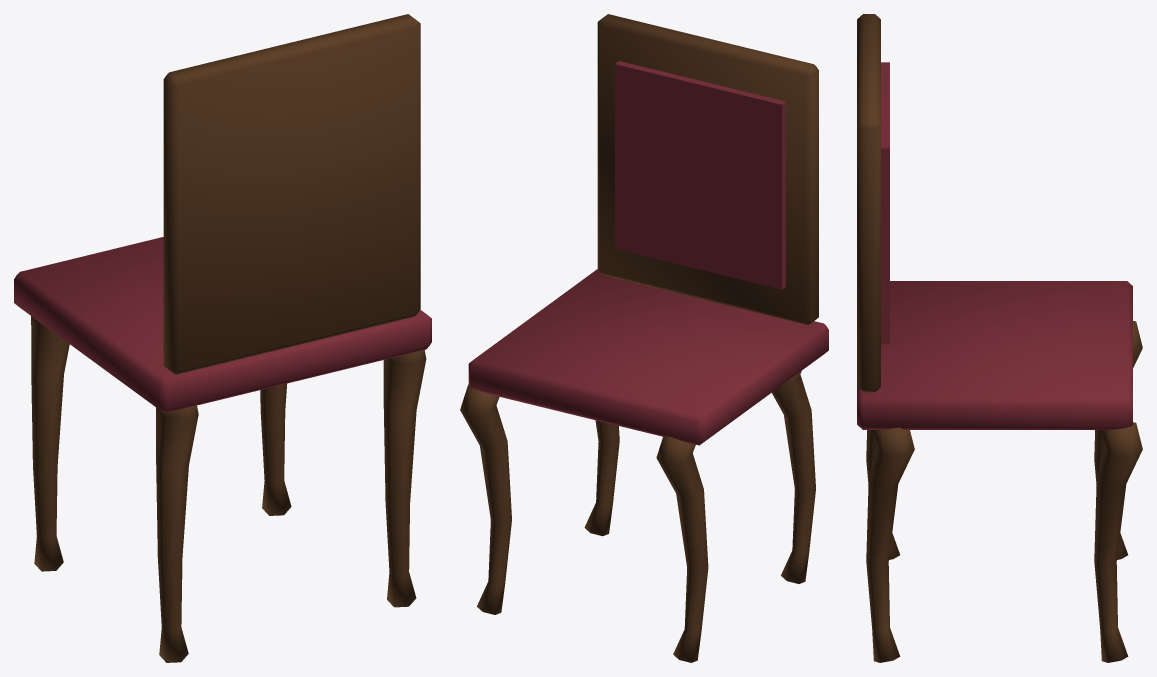
The model's file is carried_chair.glb.
3 views of the same model, side by side, from view 1: azimuth 30°, elevation 25°; view 2: azimuth 150°, elevation 25°; view 3: azimuth 270°, elevation 25° (orthographic). The views are drawn at different scales.
Visible parts, largest first — view 1: carried_chair; view 2: carried_chair; view 3: carried_chair.
Part boxes in pixels (x1=…): carried_chair: x1=14, y1=14, x2=431, y2=662; carried_chair: x1=460, y1=14, x2=828, y2=662; carried_chair: x1=857, y1=14, x2=1142, y2=662.
Size of the model in its own units: 0.4922 by 0.9957 by 0.4763.
